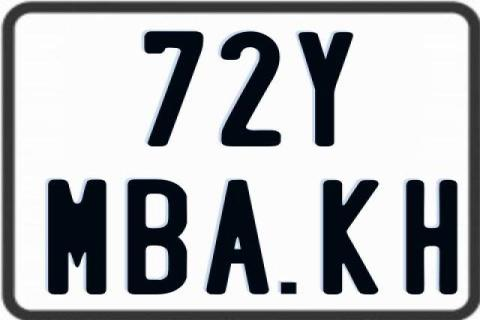0: (221, 31, 286, 147), (142, 29, 204, 147)
A: (206, 180, 271, 295)
B: (125, 178, 184, 296)
H: (405, 180, 457, 299)
K: (320, 177, 382, 297)
M: (45, 179, 104, 295)
Y: (299, 30, 356, 148)
